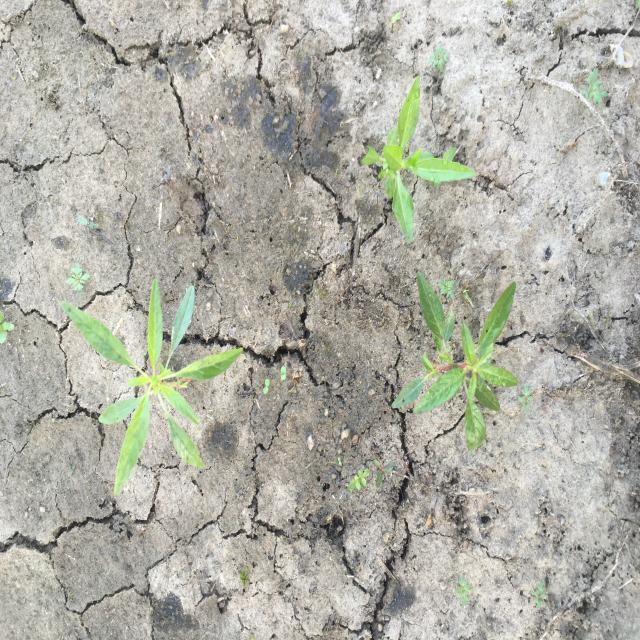Eclipta: (359, 76, 477, 245)
Ragweed: (579, 67, 609, 106), (65, 259, 90, 293), (427, 43, 451, 74)
Waterhemp: (59, 276, 244, 498), (390, 270, 519, 453)
